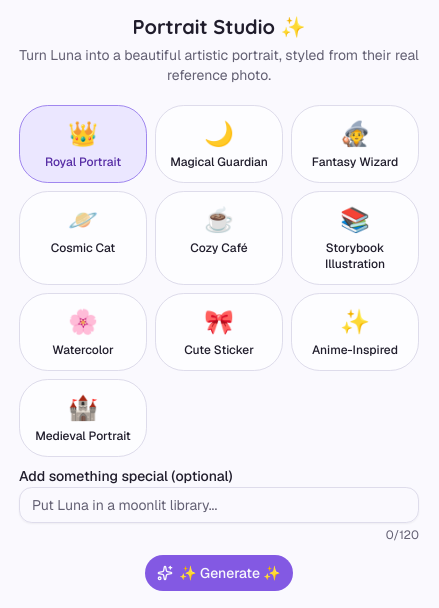
Scenario: PortraitStudio › lets the user type an optional customization idea within the character limit
Type "Put Luna in a moonlit library." into the field labelled "Add something special (optional)" at (219, 505), box [19,487,419,523]
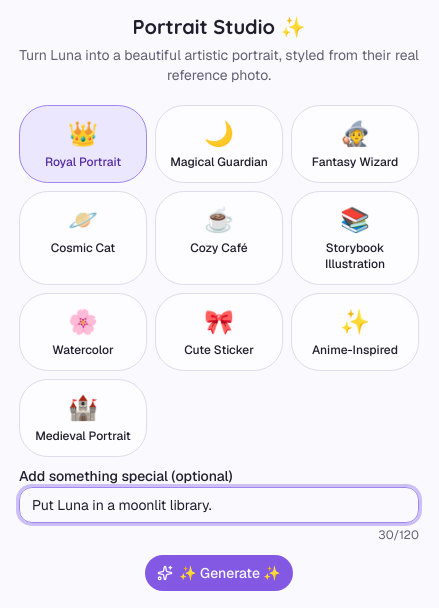
Now the text "30/120" is shown, box [378,527,419,543]
